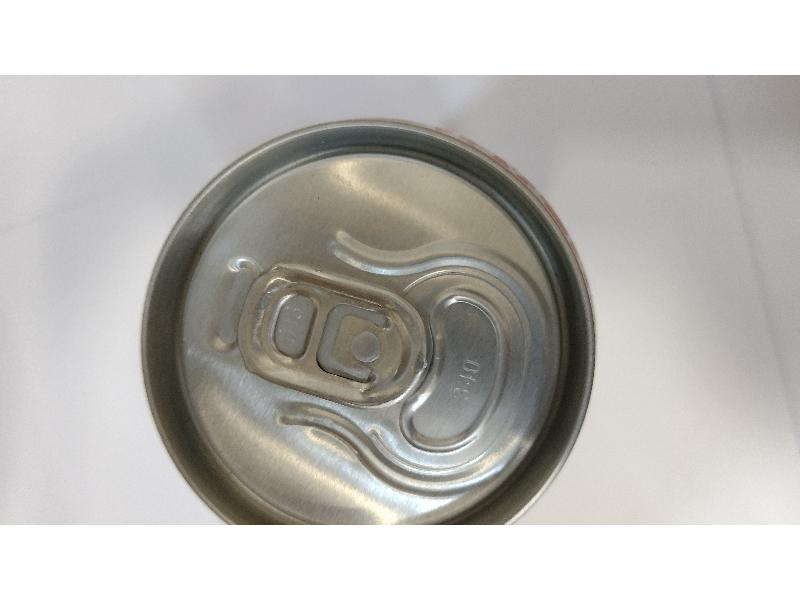can: (138, 114, 599, 523)
